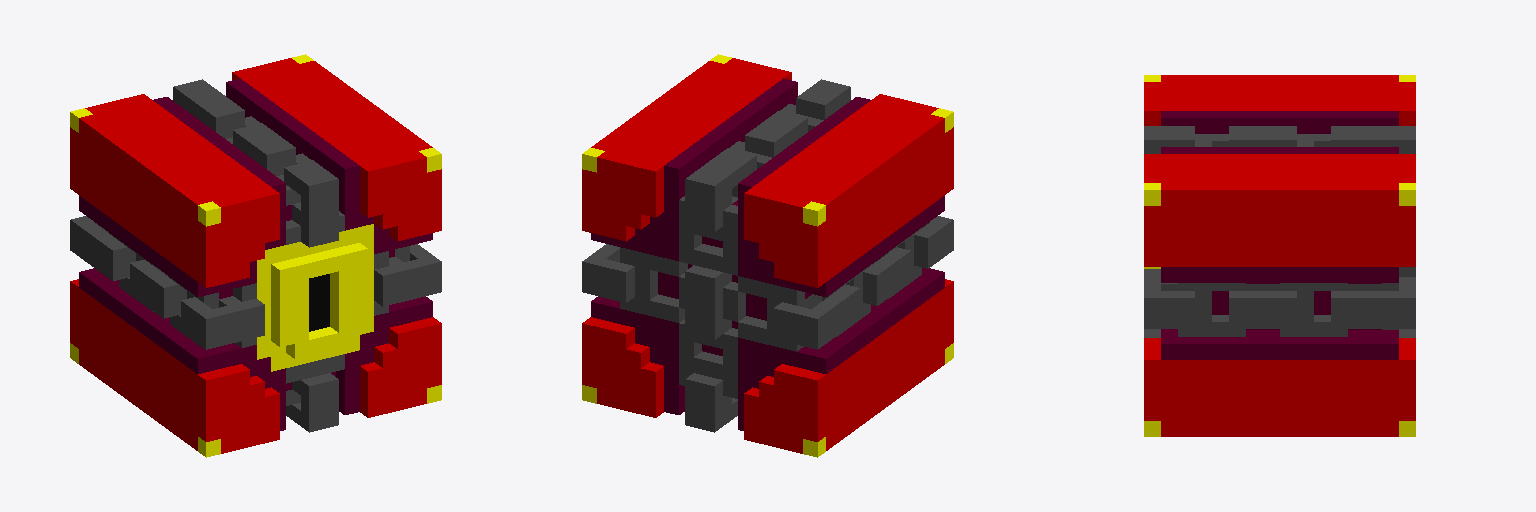
The picture shows the model from 3 angles: view 1: azimuth 30°, elevation 25°; view 2: azimuth 150°, elevation 25°; view 3: azimuth 270°, elevation 25°; orthographic projection.
Visible parts, largest first — view 1: object 1; view 2: object 1; view 3: object 1.
Part boxes in pixels (bbox=[...]): object 1: bbox=[70, 54, 441, 457]; object 1: bbox=[582, 54, 953, 457]; object 1: bbox=[1144, 75, 1415, 436].
Size of the model in its own units: 1.6 by 1.6 by 1.6.
Materials: 1 (1 with a texture image).